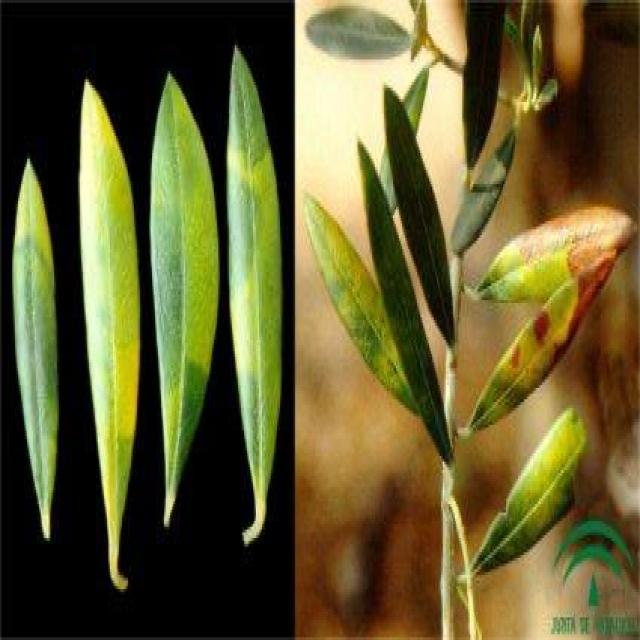Peacock Eye: (80, 76, 140, 589), (151, 74, 218, 527), (461, 255, 614, 436), (229, 45, 280, 544), (306, 193, 416, 408), (12, 159, 59, 538), (476, 207, 635, 300)
